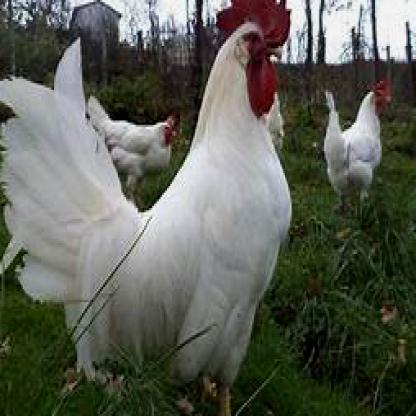chicken: (0, 0, 295, 414), (322, 77, 392, 210), (89, 94, 178, 195)
